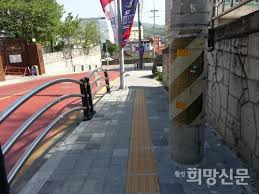guide_blocks: (125, 86, 162, 194)
